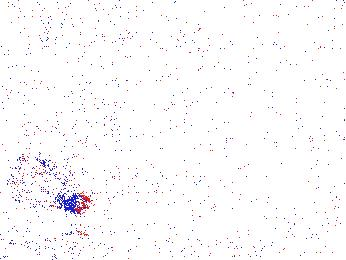flame jellyfish: (2, 156, 94, 216), (58, 158, 112, 203)
